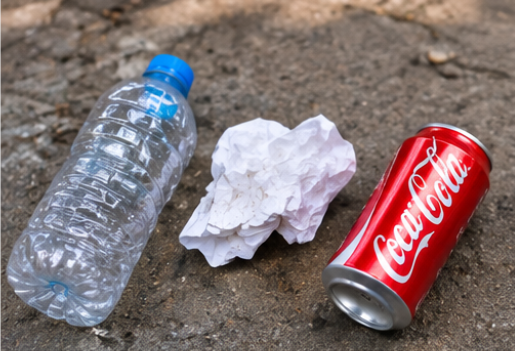metal: (319, 119, 494, 330)
paper: (175, 104, 360, 269)
plastic: (8, 53, 198, 330)
